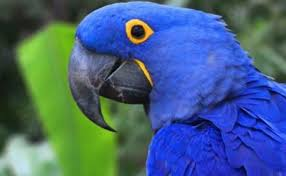guacamaya: (68, 2, 286, 159)
